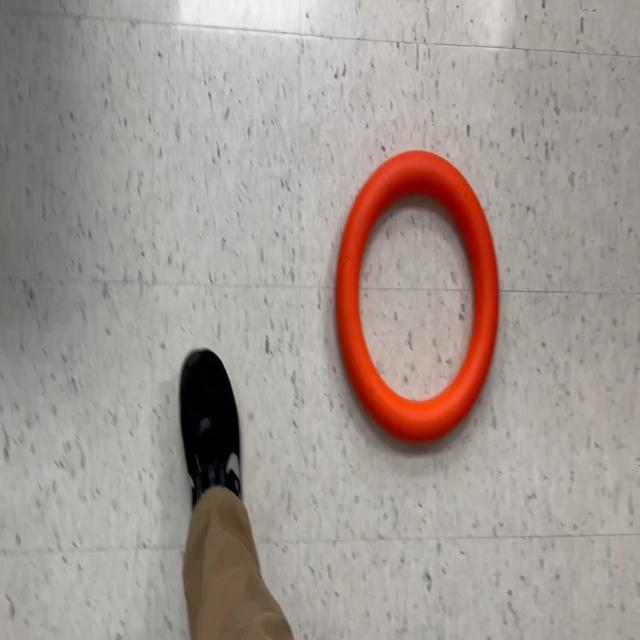note: (334, 148, 500, 446)
